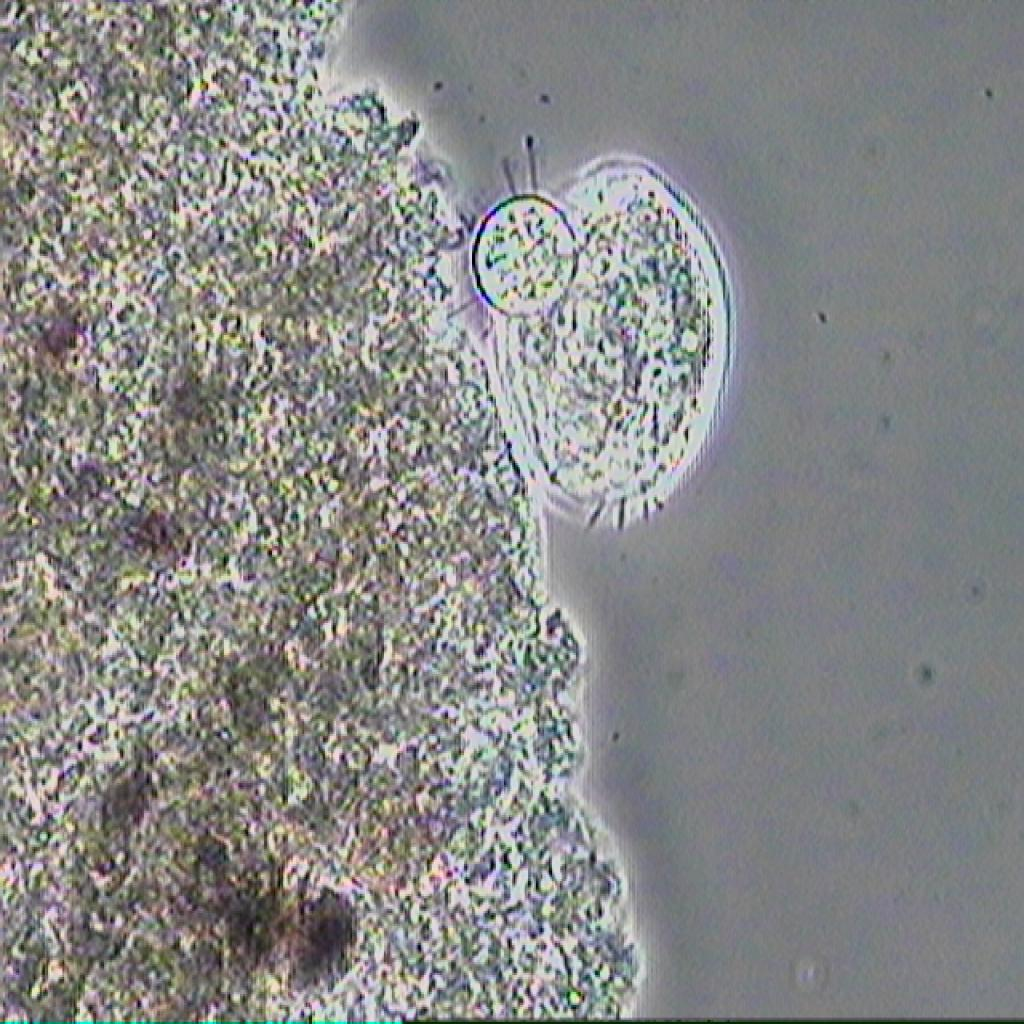Suctorida: (453, 114, 755, 547)
